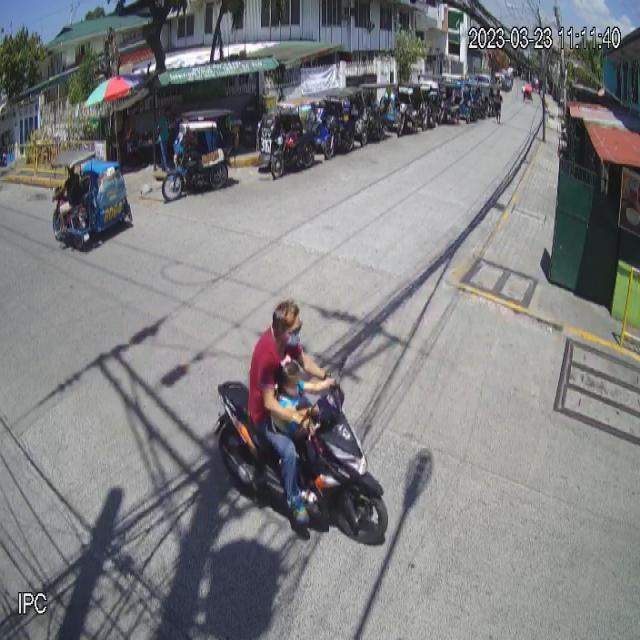Motorcycle: (213, 351, 389, 545)
Tricycle: (51, 149, 134, 248)
